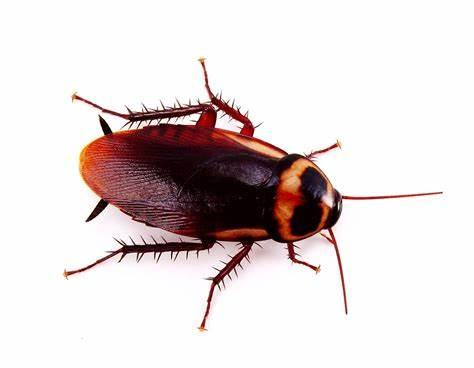cockroach: (68, 81, 346, 276)
